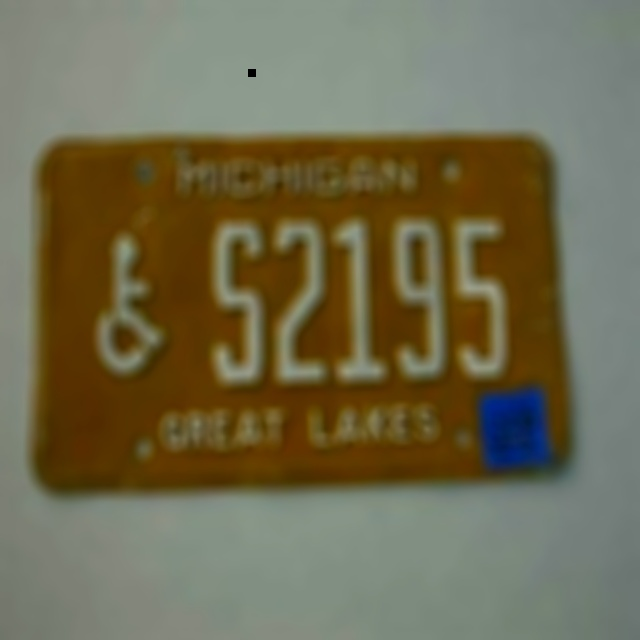ISA: (97, 235, 166, 378)
